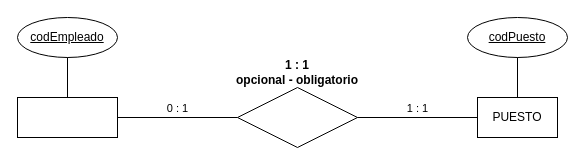
Image size: 585x165. Some labels were removed from this diagram. Each missing label, with the centre of its shape:
"EMPLEADO" goes at (67,117).
"Ocupar" goes at (297,117).
